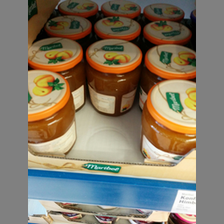jam: (139, 77, 196, 167), (86, 39, 143, 117), (28, 70, 78, 156), (28, 38, 83, 110)
